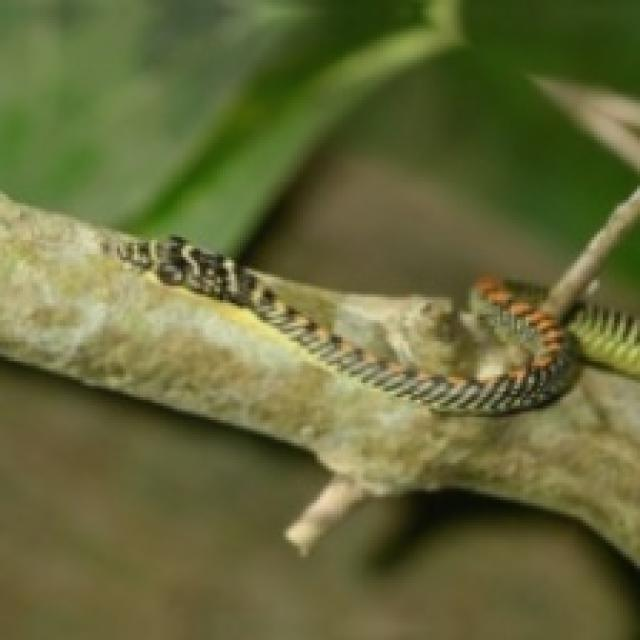paradise tree snake: (103, 237, 637, 414)
